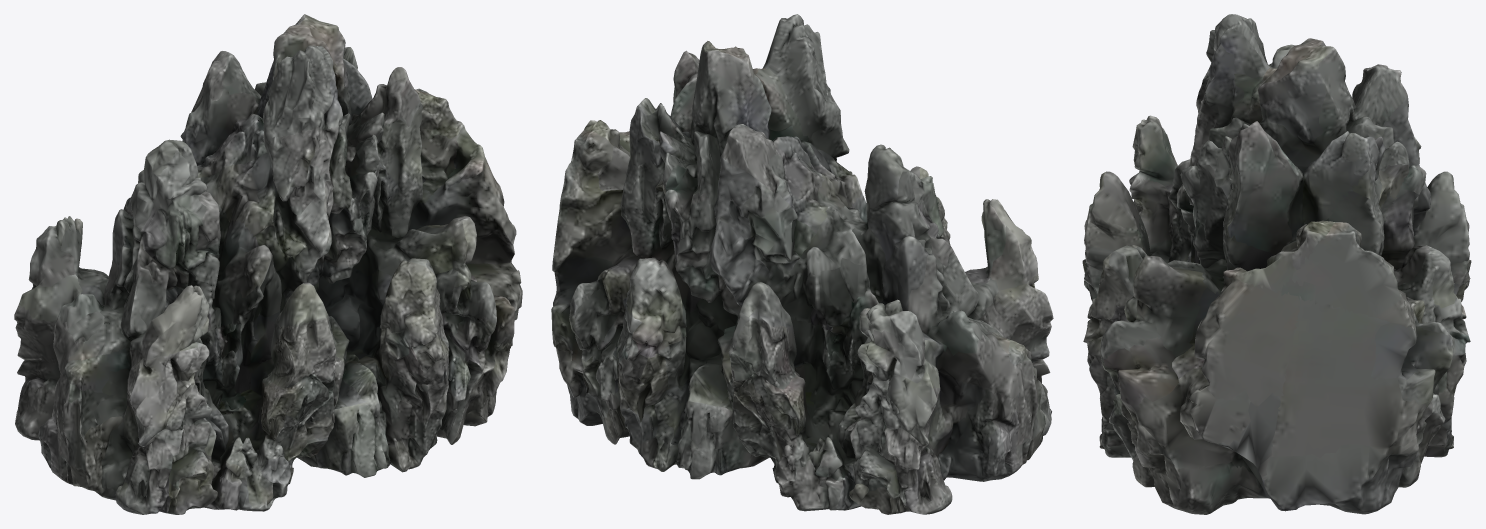
The model's file is Dieshi_6.glb.
The picture shows the model from 3 angles, left to right: view 1: azimuth 30°, elevation 25°; view 2: azimuth 150°, elevation 25°; view 3: azimuth 270°, elevation 25°; orthographic projection. The views are drawn at different scales.
Parts seen in each view (by area): view 1: tripo_node_66bab707-e061-4068-9877-60a8e35c5145; view 2: tripo_node_66bab707-e061-4068-9877-60a8e35c5145; view 3: tripo_node_66bab707-e061-4068-9877-60a8e35c5145.
Boxes of the visible parts, left/top/right/bottom form: tripo_node_66bab707-e061-4068-9877-60a8e35c5145: left=14, top=14, right=522, bottom=514; tripo_node_66bab707-e061-4068-9877-60a8e35c5145: left=551, top=14, right=1053, bottom=514; tripo_node_66bab707-e061-4068-9877-60a8e35c5145: left=1082, top=14, right=1471, bottom=514.
Size of the model in its own units: 0.9801 by 0.85 by 0.7049.
1 material, 1 textured.
